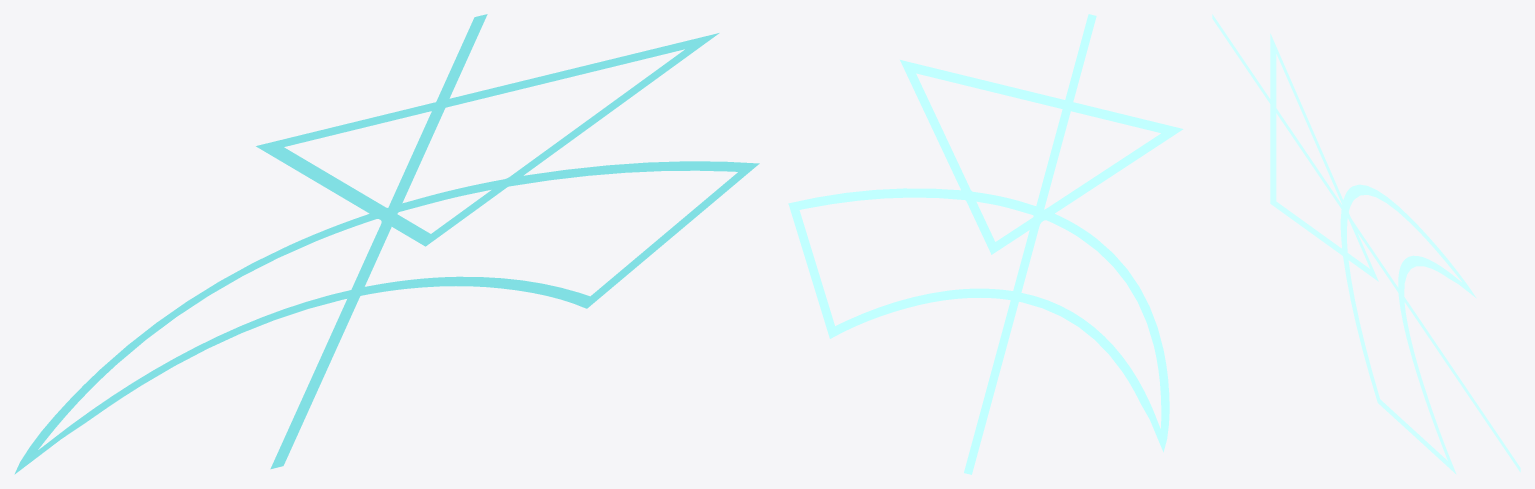
Rendered from Rune_Glow_10.fbx.
The picture shows the model from 3 angles, left to right: view 1: azimuth 30°, elevation 25°; view 2: azimuth 150°, elevation 25°; view 3: azimuth 270°, elevation 25°; orthographic projection. The views are drawn at different scales.
Visible parts, largest first — view 1: Rune10; view 2: Rune10; view 3: Rune10.
Part boxes in pixels (x1,y1,x2,y2): Rune10: (14,14,759,474); Rune10: (788,14,1183,474); Rune10: (1212,14,1520,474).
Size of the model in its own units: 0.7024 by 0.5941 by 0.3655.
